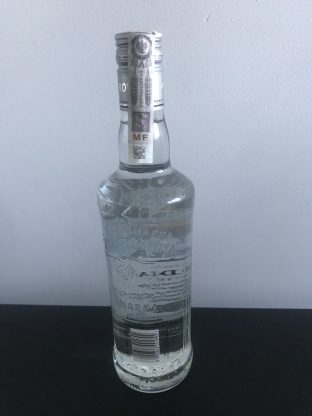nakretka: (110, 24, 168, 113)
